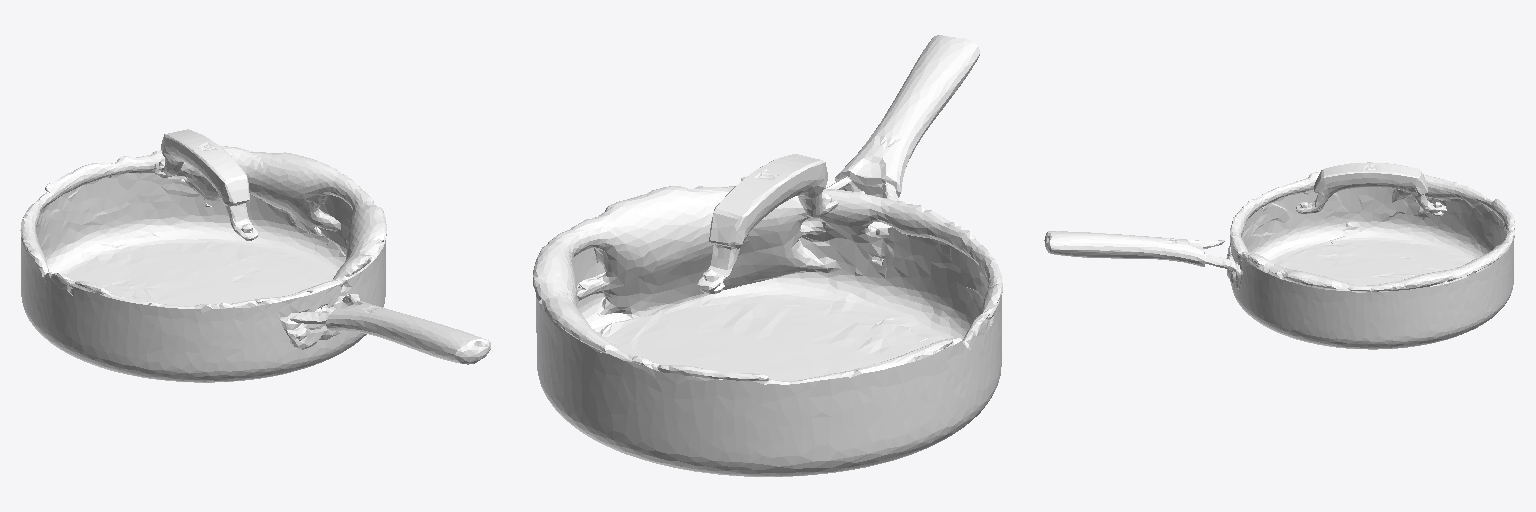
robot.urdf — textured:
<?xml version="1.0" ?>
<robot name="textured">
 <link name="baseLink">
   <contact>
     <lateral_friction value="0.5"/>
   </contact>
   <inertial>
     <origin rpy="0 0 0" xyz="-0.006764 0.024511 0.038316"/>
      <mass value="1.0"/>
      <inertia ixx="0.000008" ixy="0.000001" ixz="-0.000000" iyy="0.000005" iyz="0.000001" izz="0.000011"/>
   </inertial>
   <visual>
     <origin rpy="0 0 0" xyz="0 0 0"/>
     <geometry>
       <mesh filename="textured.obj" scale="1.0 1.0 1.0"/>
     </geometry>
      <material name="white">
       <color rgba="1 1 1 1"/>
     </material>
   </visual>
   <collision>
     <origin rpy="0 0 0" xyz="0 0 0"/>
     <geometry>
       <mesh filename="textured_vhacd2.obj" scale="1.0 1.0 1.0"/>
     </geometry>
   </collision>
 </link>
</robot>

--- Render facts (derived) ---
3 views of the same robot in one strip: view 1: azimuth 30°, elevation 25°; view 2: azimuth 150°, elevation 25°; view 3: azimuth 270°, elevation 25° (orthographic).
Model textured with 1 links and 0 joints (none), rooted at baseLink, posed every joint at zero.
Visible links, largest first — view 1: baseLink; view 2: baseLink; view 3: baseLink.
Boxes of the visible links, <box> form: baseLink: <box>20,129,490,382</box>; baseLink: <box>533,35,1002,476</box>; baseLink: <box>1044,162,1514,349</box>.
Bounding box of the posed robot: 0.2666 × 0.4408 × 0.142 m (x, y, z).
Meshes: 1 distinct files referenced, 1 mesh visuals loaded (1 OBJ).